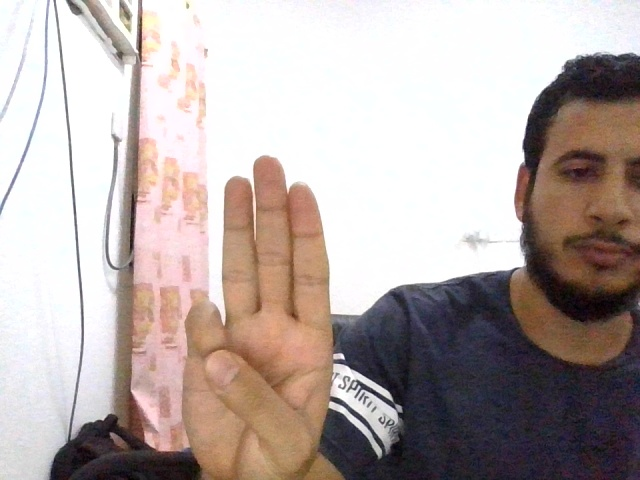Three: (184, 156, 334, 480)
